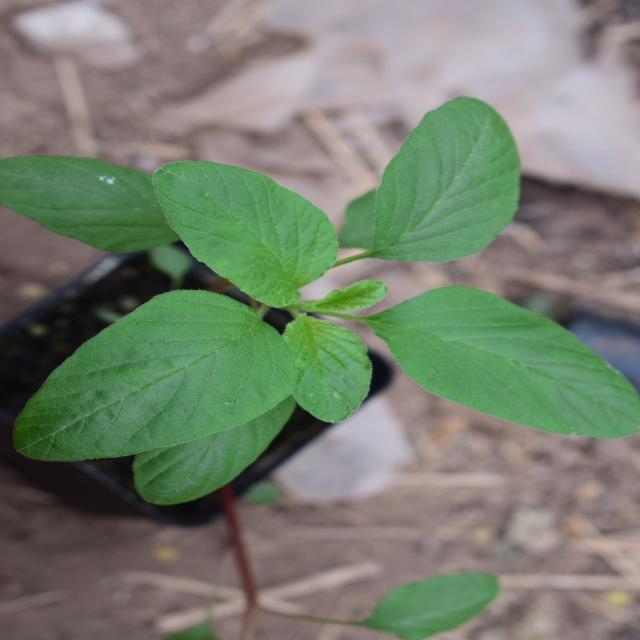pigweed: (111, 17, 492, 609)
